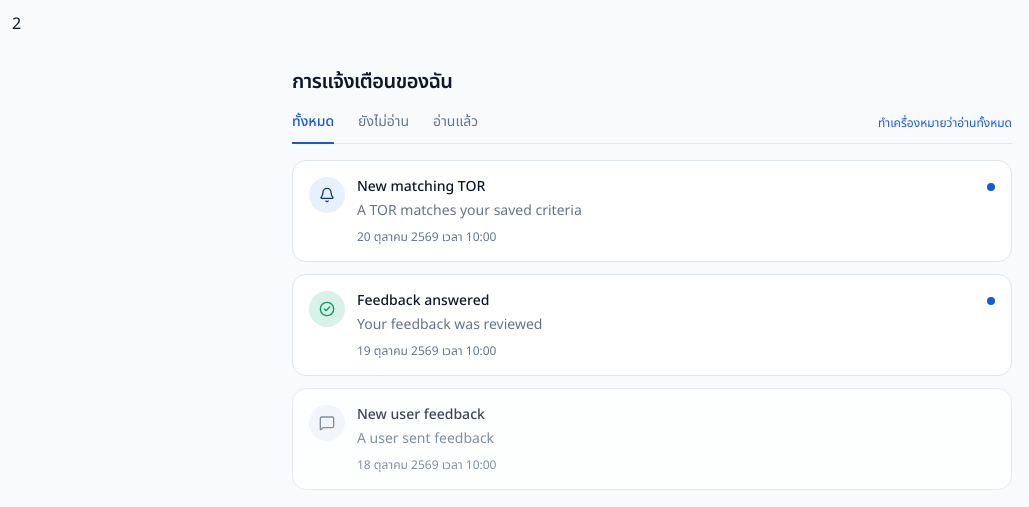
Notifications page › marks all notifications read and clears the unread count
expect the text "New matching TOR" is shown: met, box [357,177,485,197]
expect the text "2" is shown: met, box [12,12,21,36]
Click the button "ทำเครื่องหมายว่าอ่านทั้งหมด".
click(945, 128)  # box [878,114,1012,140]
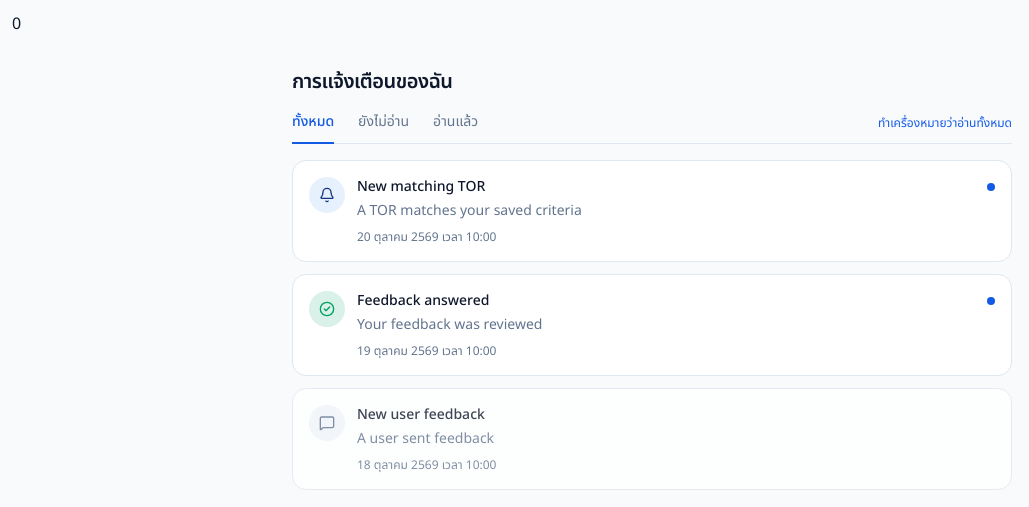
expect the text with test id "unread-count" reads "0": met, box [12,12,21,36]
